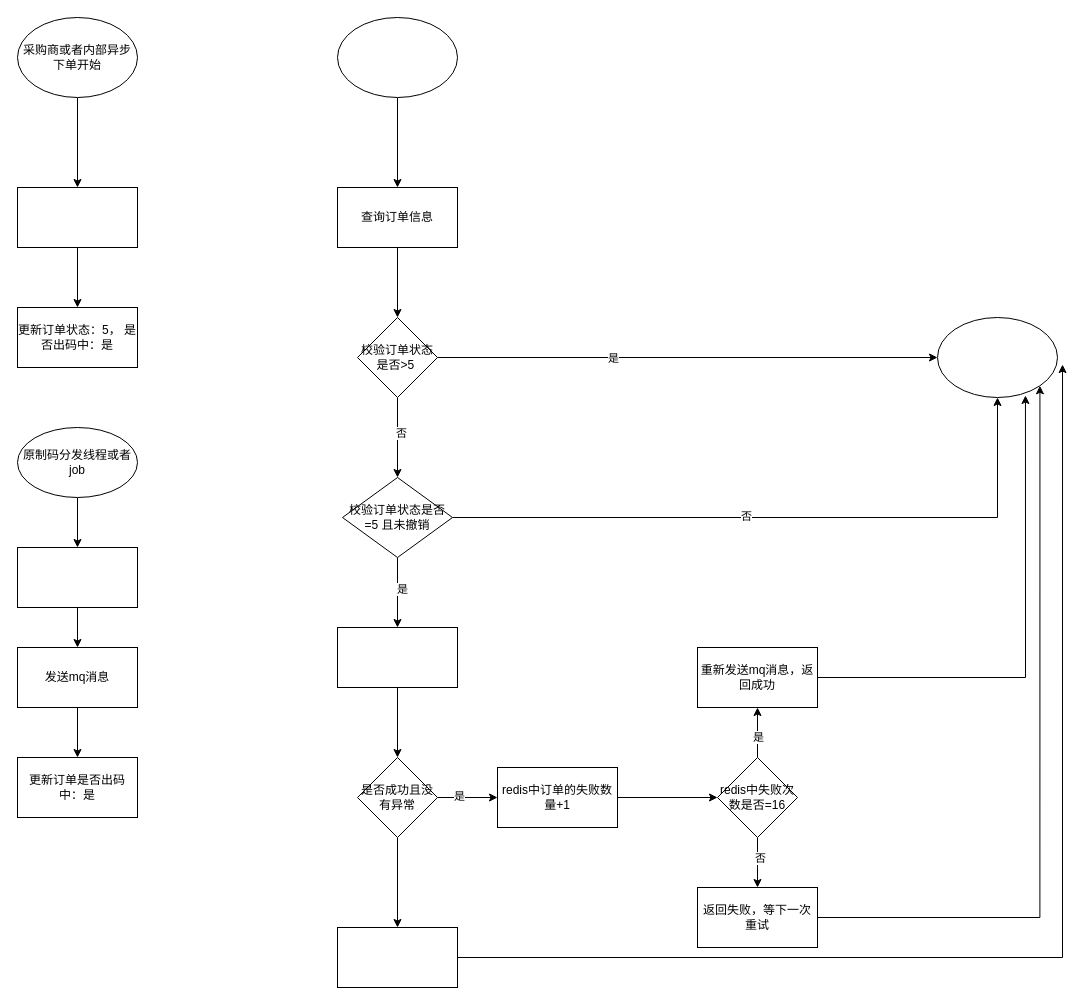
Image size: 1089x1005. Some labels were removed from this diagram. The shapes that lost their labels are listed below. From the top down, each one's centre as x and y in pixels, then its label:
[397,57]: 出码消费这
[77,217]: 发送出码mq消息
[997,357]: 结束
[77,577]: 查询订单 5 且未出码中
[397,657]: 根据类型请求供应商出码
[397,957]: 根据供应商同步异步进行处理订单状态6或者7
